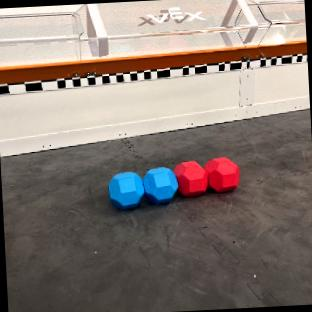V5_BLUE: (108, 167, 177, 209)
V5_RED: (173, 155, 239, 197)
pieces: (106, 153, 242, 212)
